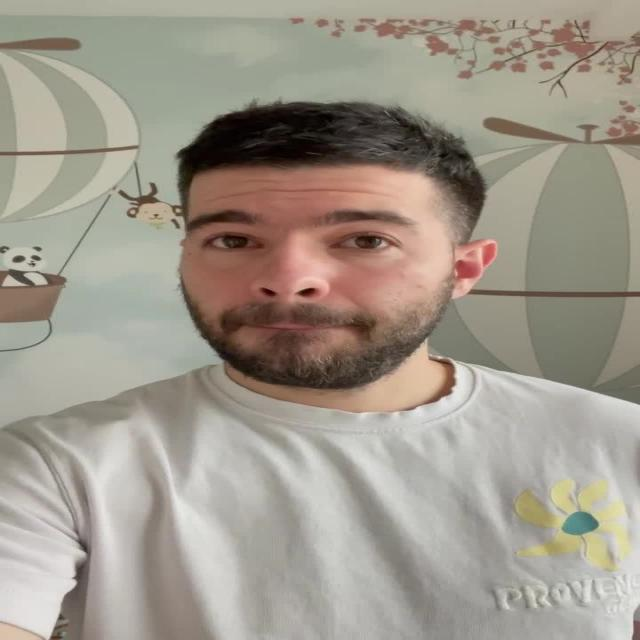earlobe: (448, 277, 473, 300)
eye: (333, 233, 400, 253), (204, 234, 264, 250)
nose: (253, 292, 324, 324)
wholeear: (447, 238, 499, 300)
